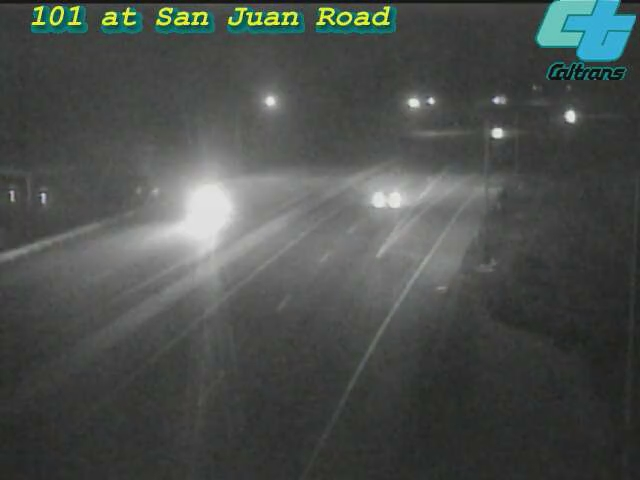vehicle: (166, 168, 246, 248), (169, 164, 249, 244), (472, 107, 522, 157), (545, 93, 595, 143)
